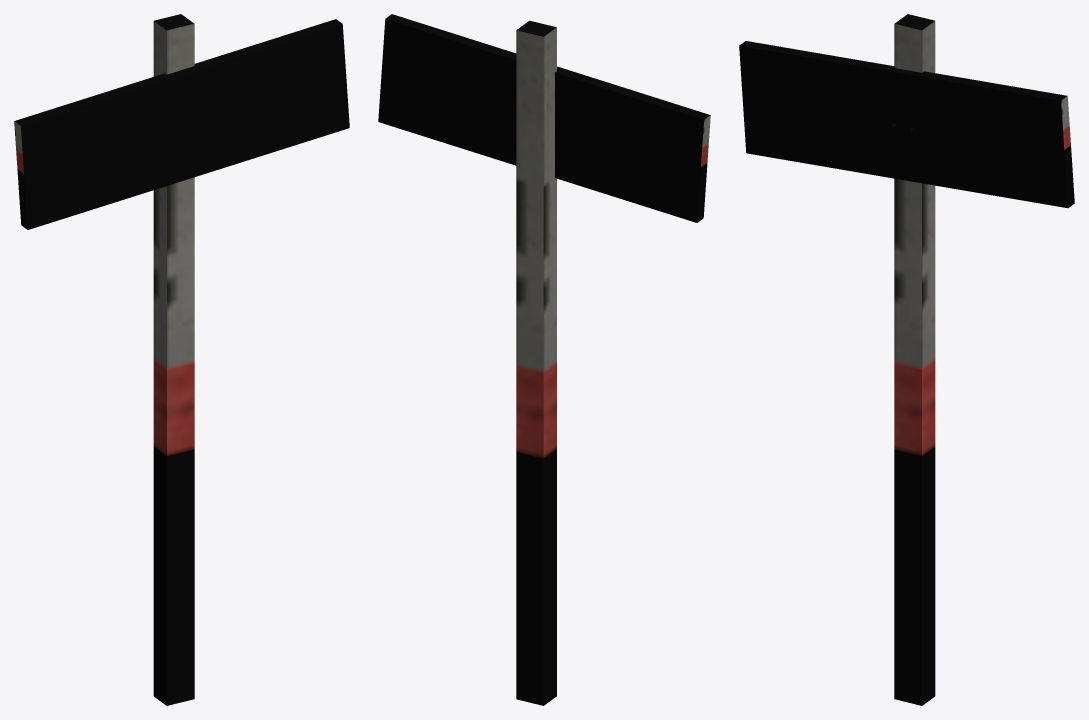
Rendered from sign_turn_back.fbx.
3 renders of one model, left to right at view 1: azimuth 30°, elevation 25°; view 2: azimuth 150°, elevation 25°; view 3: azimuth 330°, elevation 25°, orthographic.
Visible parts, largest first — view 1: sign_turn_back; view 2: sign_turn_back; view 3: sign_turn_back.
Part boxes in pixels (<box>): sign_turn_back: <box>14,14,349,705</box>; sign_turn_back: <box>378,14,710,705</box>; sign_turn_back: <box>739,14,1074,705</box>.
Bounding box in the file's own units: 0.7136 × 1.4 × 0.079.
